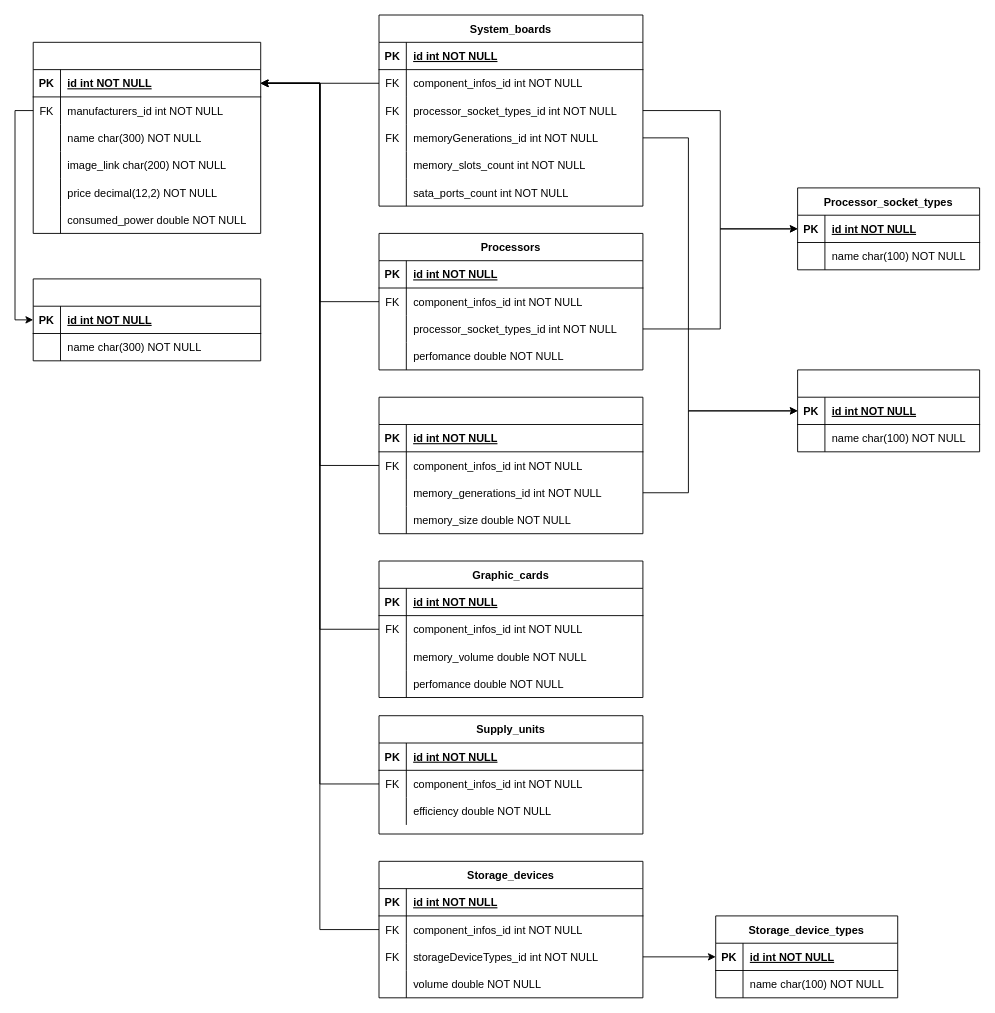
This 995x1013 diagram has some shape labels left out. The shapes that lost their labels are listed below. From the top down, each one's box as (x1, y1, x2, y2) in pixels, then its label:
(32, 41, 261, 233): Component_infos
(32, 278, 261, 361): Manufacturers
(797, 369, 980, 452): Memory_generations
(378, 396, 643, 534): Rams
